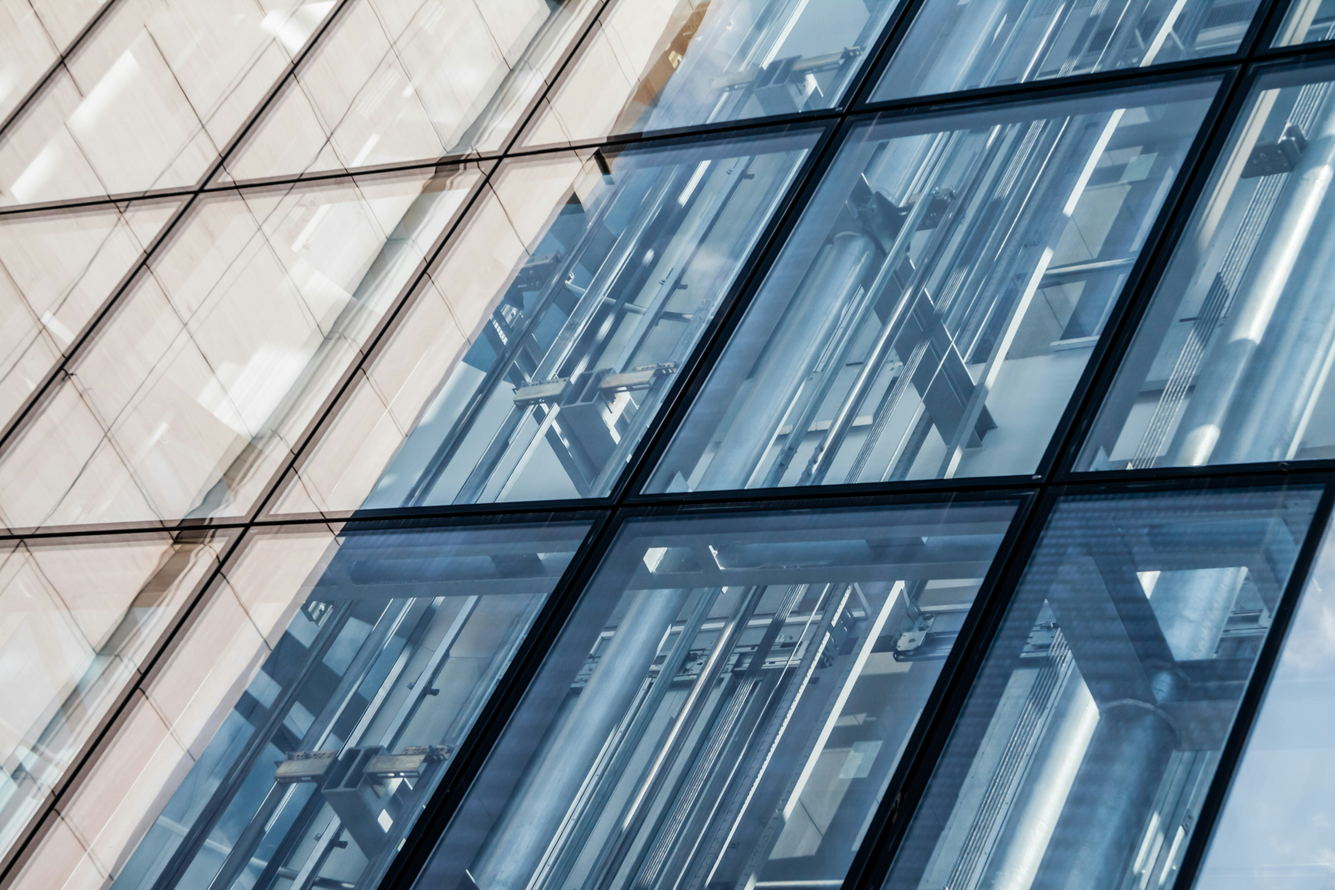glass_panel: (647, 81, 1217, 492), (415, 501, 1016, 890), (12, 521, 588, 890), (276, 130, 817, 512), (884, 486, 1320, 890), (0, 167, 480, 527), (1078, 68, 1335, 470), (0, 532, 227, 855), (0, 0, 334, 205), (228, 0, 597, 179), (523, 0, 899, 145), (1195, 531, 1335, 890), (0, 201, 178, 426), (871, 0, 1259, 101), (0, 0, 105, 121), (1273, 0, 1335, 46)
